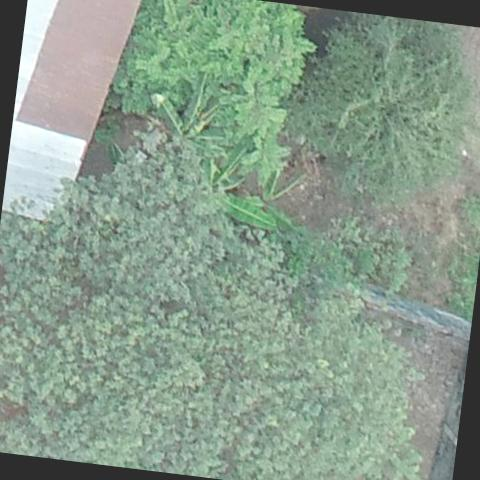Banana-plant: (174, 134, 286, 239), (144, 61, 240, 164), (230, 161, 310, 239)
